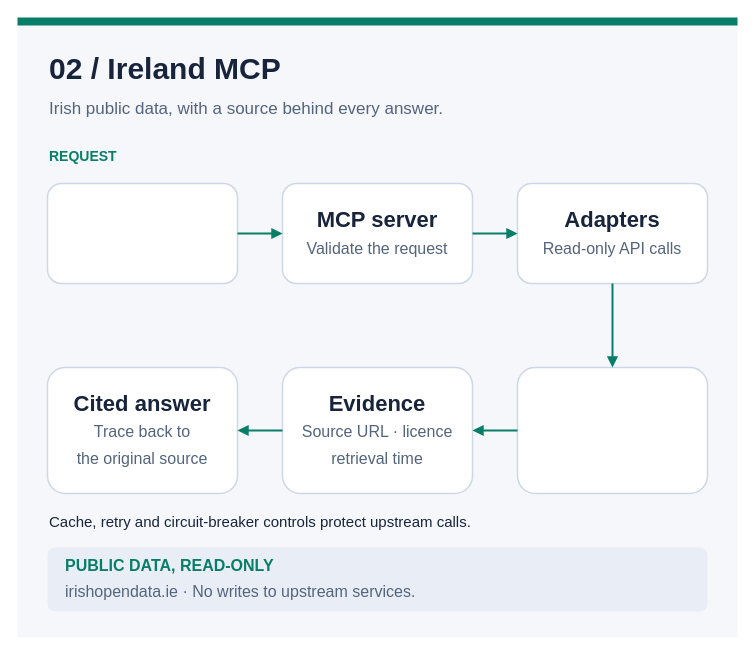
The diagram is 754 pixels wide and 654 high, and some of its shapes have lost their labels. The shapes that lost their labels are listed below. From the top down, each one's box as (x1, y1, x2, y2) in pixels, then its label:
(46, 182, 238, 284): AI assistant MCP client
(516, 366, 708, 494): Public sources CSO · Met Éireann Oireachtas · PPR
